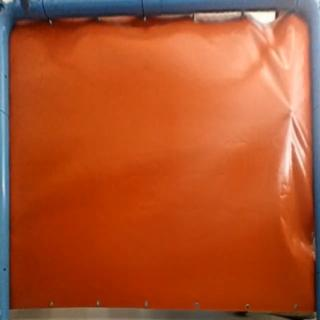Hit-hRxx: (281, 104, 298, 118)
